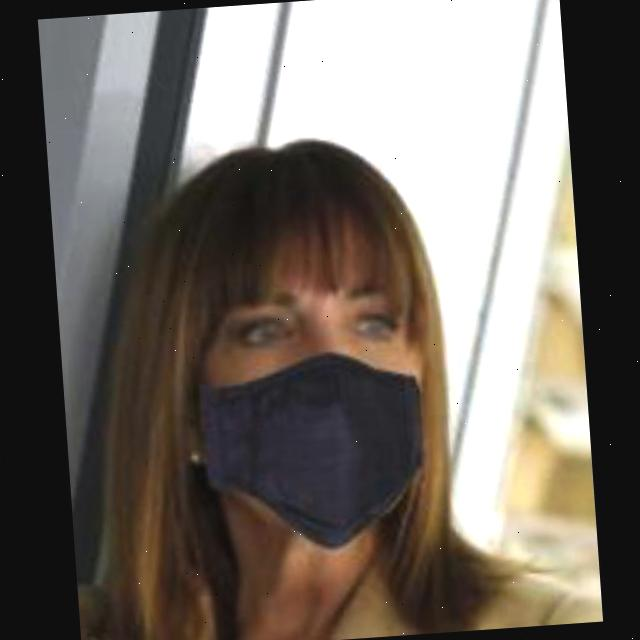suspicion: (80, 116, 520, 581)
